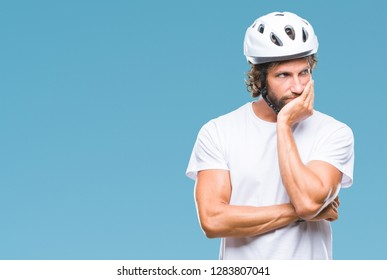helmet: (243, 12, 318, 119)
